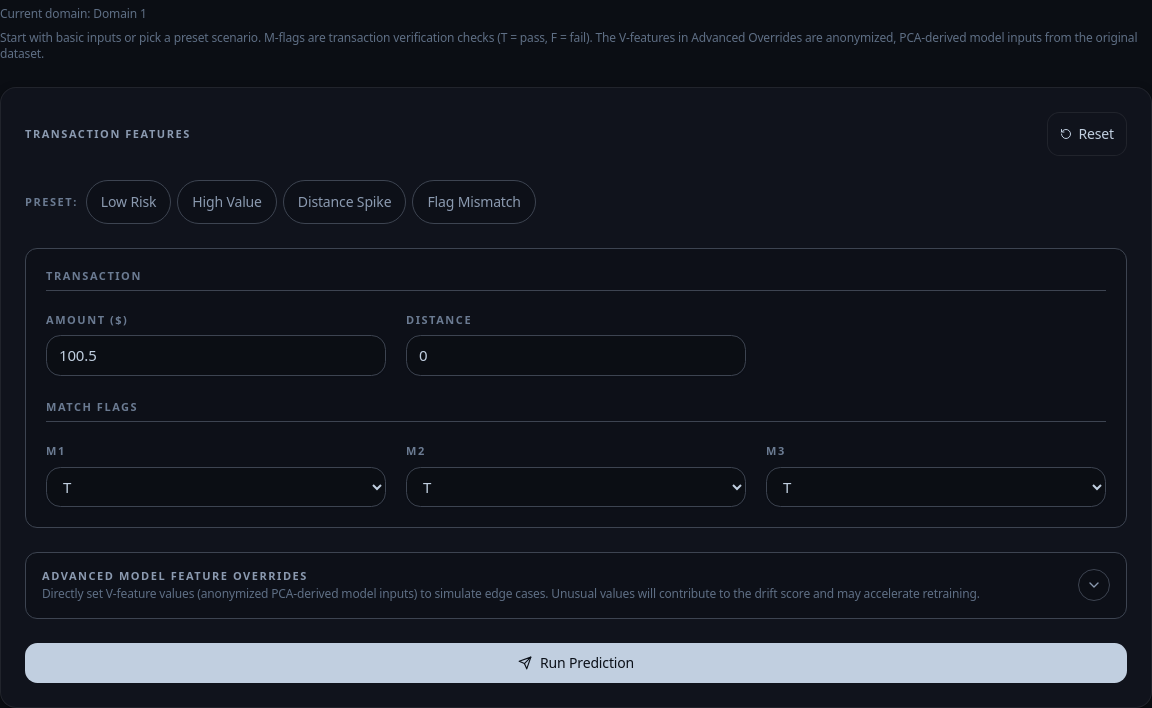
TestPanel › renders no definitive prediction for ACTION_FALLBACK
(page scrolled)
Click the button "Run Prediction". click: (576,663)
box: 25,643 -> 1127,683
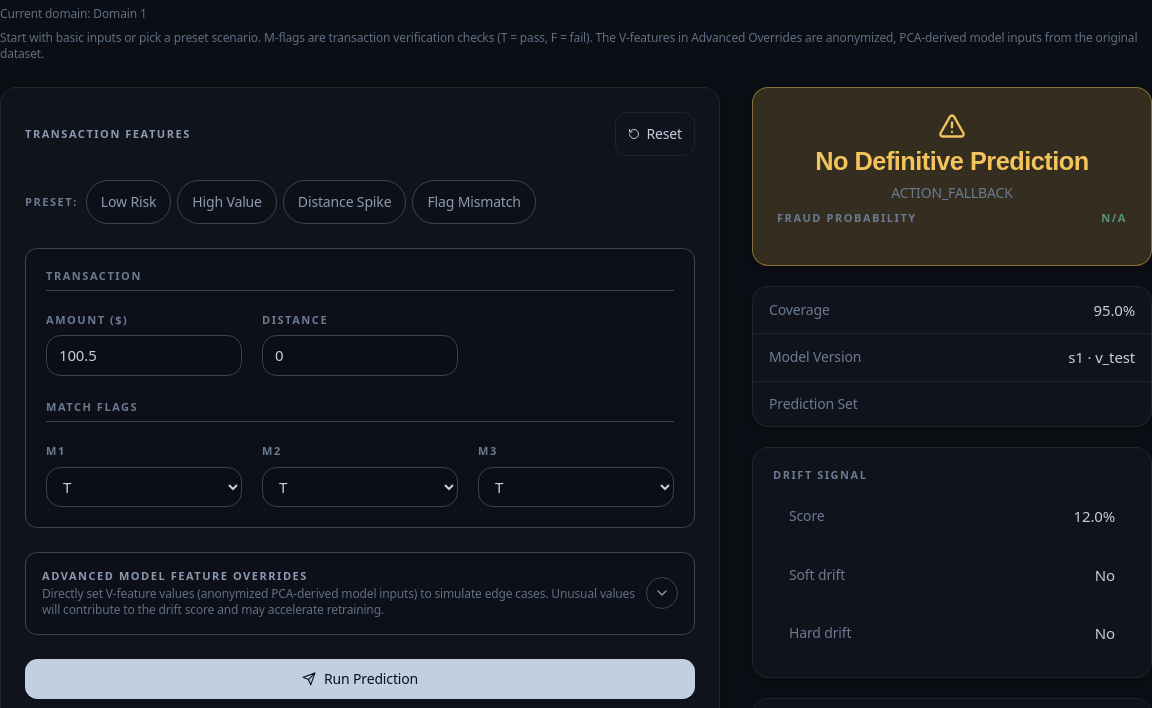
Check: the text "No Definitive Prediction" is shown, box 815,147 -> 1089,175
Check: the text "ACTION_FALLBACK" is shown, box 891,183 -> 1013,202
